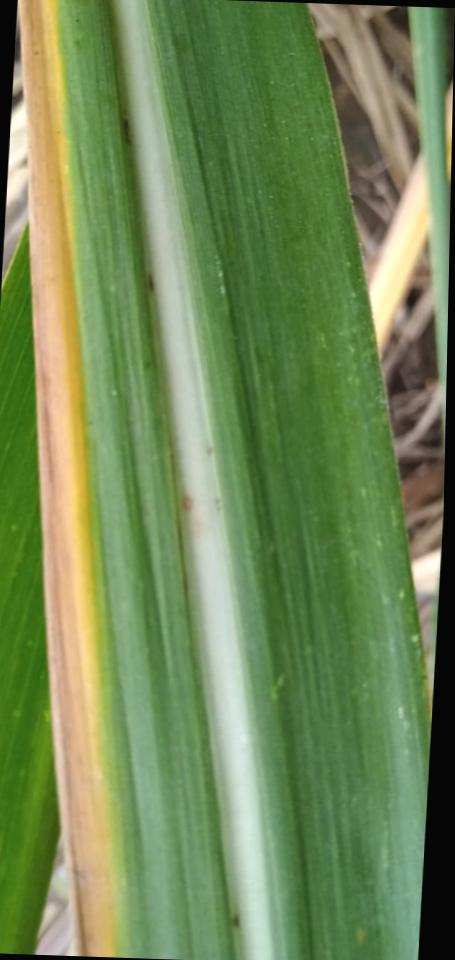Rust: (122, 115, 132, 148), (146, 273, 155, 295), (231, 913, 240, 929)
Yellow: (18, 0, 111, 957)
